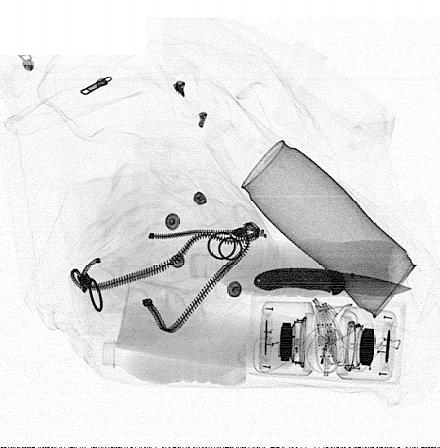Knife: (251, 266, 415, 298)
